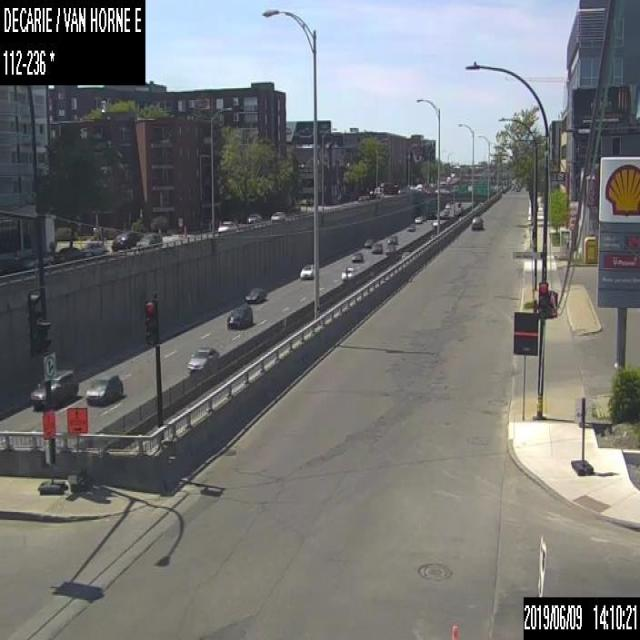construction: (65, 402, 92, 490), (39, 408, 66, 493), (571, 396, 591, 475), (450, 614, 458, 638)
vehicle: (31, 369, 79, 408), (85, 373, 124, 407), (187, 345, 221, 373), (226, 305, 253, 329), (111, 230, 137, 250), (24, 250, 52, 267), (53, 246, 81, 262), (80, 240, 106, 257), (134, 232, 161, 248), (215, 219, 238, 233), (245, 286, 265, 302), (340, 264, 356, 280), (299, 262, 313, 278), (245, 210, 261, 222), (471, 216, 483, 229), (270, 209, 285, 219), (387, 233, 397, 244), (384, 243, 394, 254), (351, 251, 363, 260), (371, 242, 381, 252), (364, 237, 373, 247), (406, 223, 414, 231), (430, 218, 437, 226), (414, 215, 421, 222)
